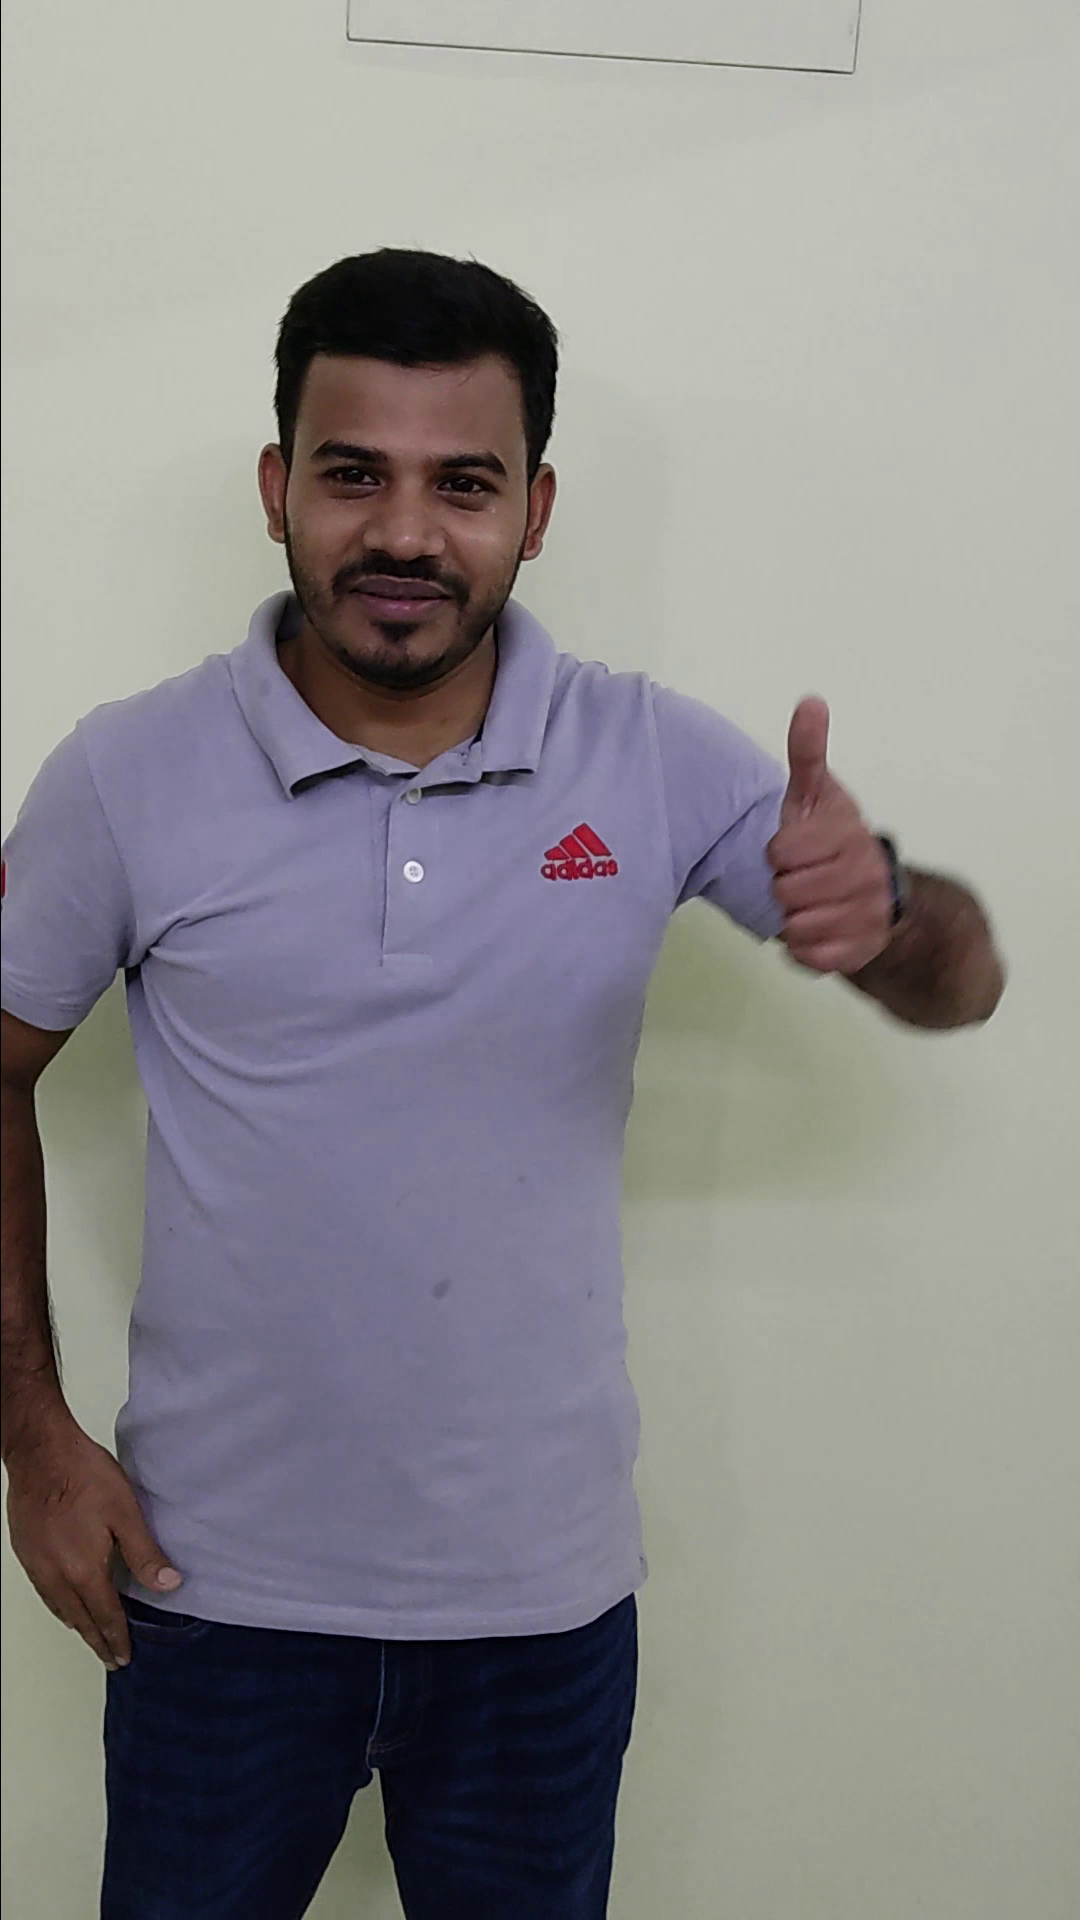Like: (713, 690, 926, 986)
None: (3, 1395, 200, 1679)
